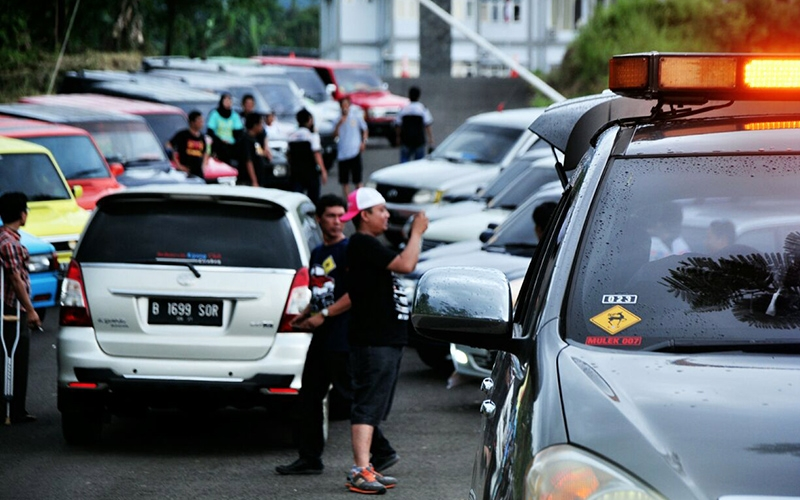plate: (149, 300, 226, 325)
